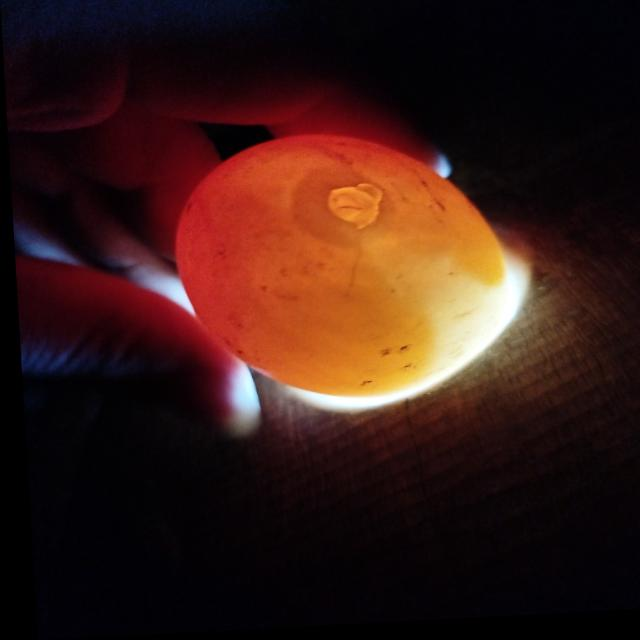Camara de Ar: (288, 168, 395, 252)
Rachadura: (325, 186, 380, 233)
